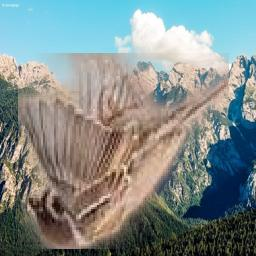Sparrow: (19, 53, 230, 249)
